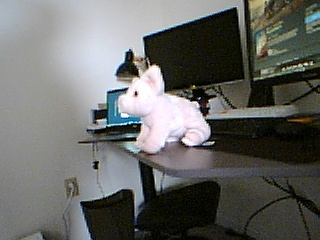piggy: (117, 63, 212, 156)
